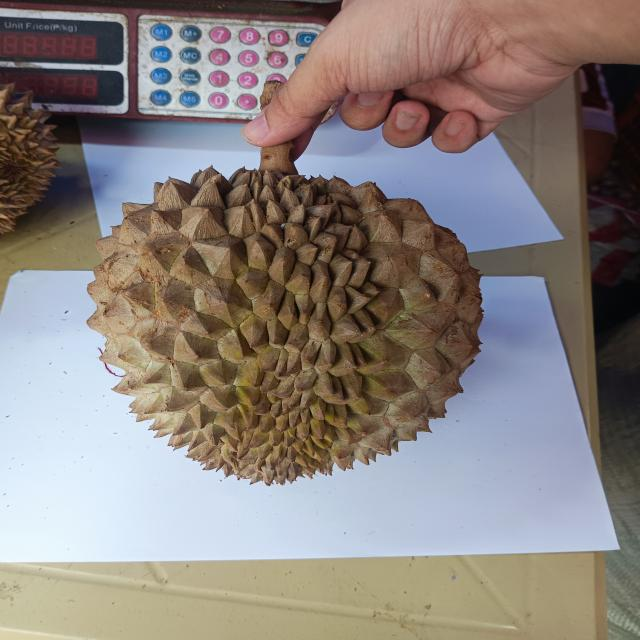mature: (80, 164, 489, 481), (0, 83, 59, 234)
